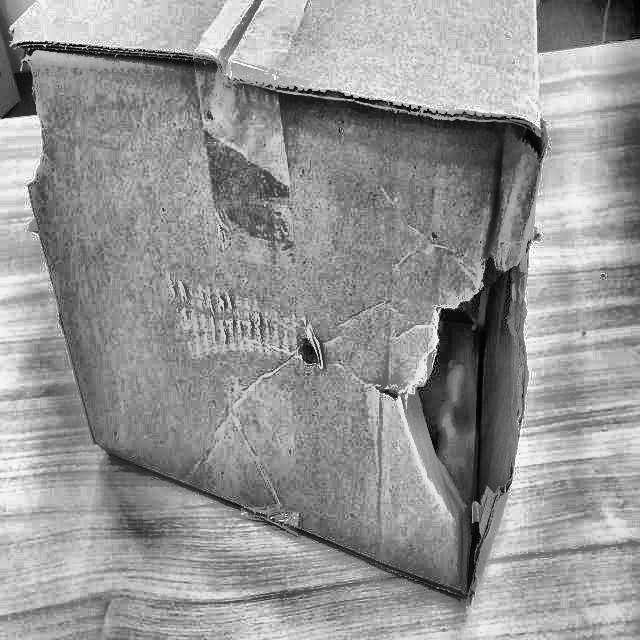box: (0, 4, 565, 629)
hole: (369, 202, 542, 602)
